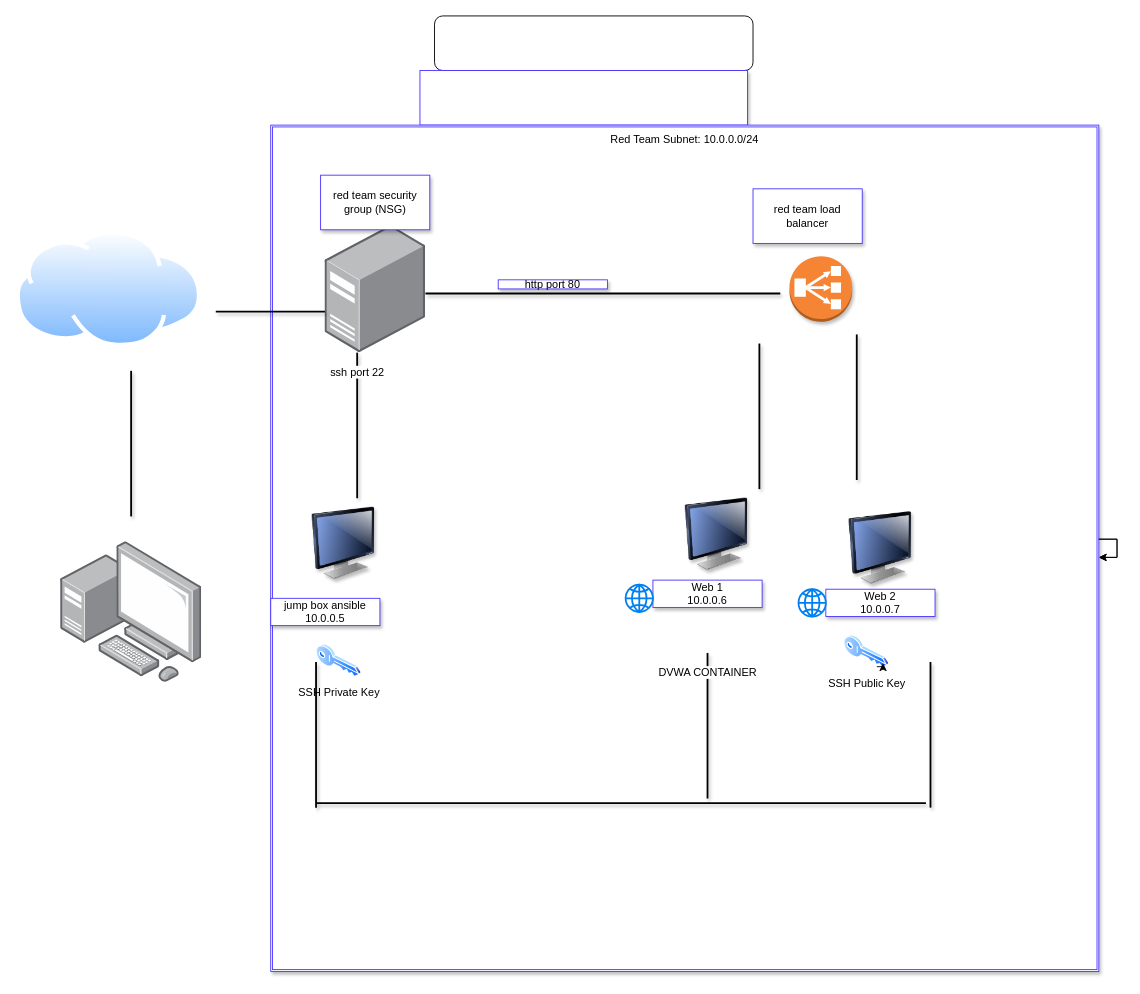
Some shapes in this 1140 by 994 pixel diagram are drawn without their labels. Each missing label, with the centre of its shape:
internet: pixel 108 288
Red Team Resource Group: pixel 593 43
Red Team Virtual Network: 10.0.0.0./16: pixel 584 98
work: pixel 130 611
